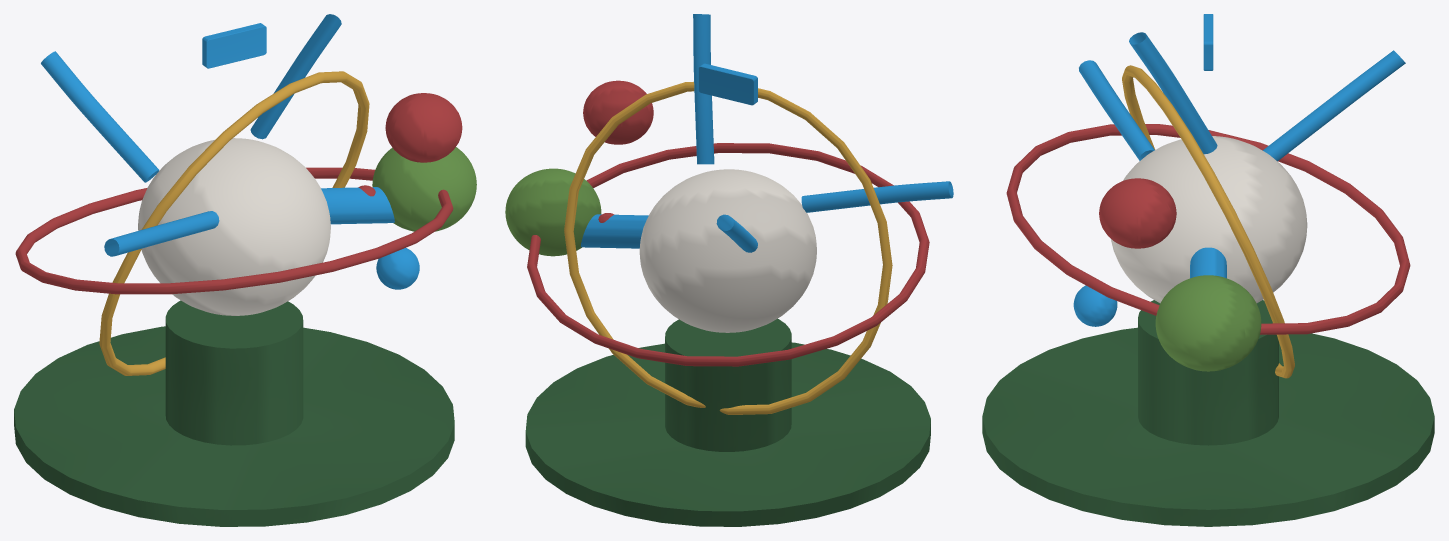
Rendered from 0514_生活中的化学图鉴_金刚石.glb.
3 views of the same model, side by side, from view 1: azimuth 30°, elevation 25°; view 2: azimuth 150°, elevation 25°; view 3: azimuth 270°, elevation 25° (orthographic). The views are drawn at different scales.
Parts seen in each view (by area): view 1: card_0514; view 2: card_0514; view 3: card_0514.
Boxes of the visible parts, <box> form: card_0514: <box>14,14,476,526</box>; card_0514: <box>505,14,953,526</box>; card_0514: <box>982,14,1434,526</box>.
Size of the model in its own units: 1.06 by 1 by 0.9529.
